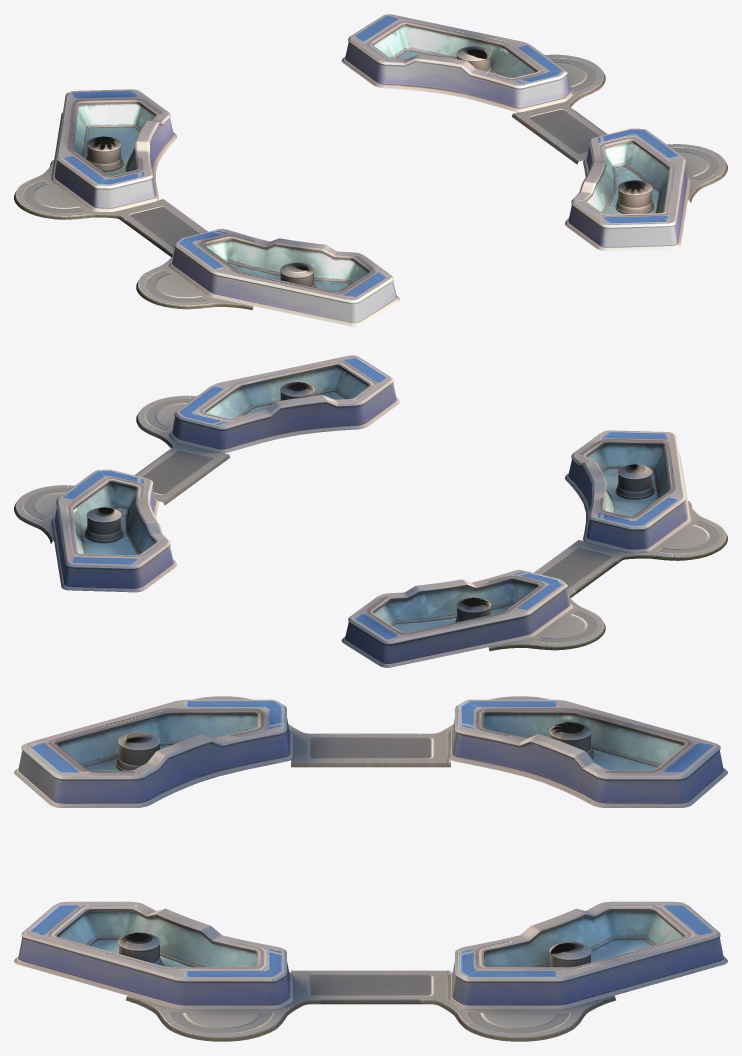
File: pref_sm_4v4beachtech_bk_waterblock_c02a_lv0.fbx
3 renders of one model, top to bottom at view 1: azimuth 30°, elevation 25°; view 2: azimuth 150°, elevation 25°; view 3: azimuth 270°, elevation 25°, orthographic. The views are drawn at different scales.
Visible parts, largest first — view 1: sm_4v4beachtech_bk_waterblock_c02a_lv0; view 2: sm_4v4beachtech_bk_waterblock_c02a_lv0; view 3: sm_4v4beachtech_bk_waterblock_c02a_lv0.
Boxes of the visible parts, left/top/right/bottom form: sm_4v4beachtech_bk_waterblock_c02a_lv0: left=14, top=14, right=727, bottom=326; sm_4v4beachtech_bk_waterblock_c02a_lv0: left=14, top=355, right=727, bottom=667; sm_4v4beachtech_bk_waterblock_c02a_lv0: left=14, top=696, right=727, bottom=1041.
Bounding box in the file's own units: 39.66 × 2.06 × 34.89.
Materials: 1 (1 with a texture image).
